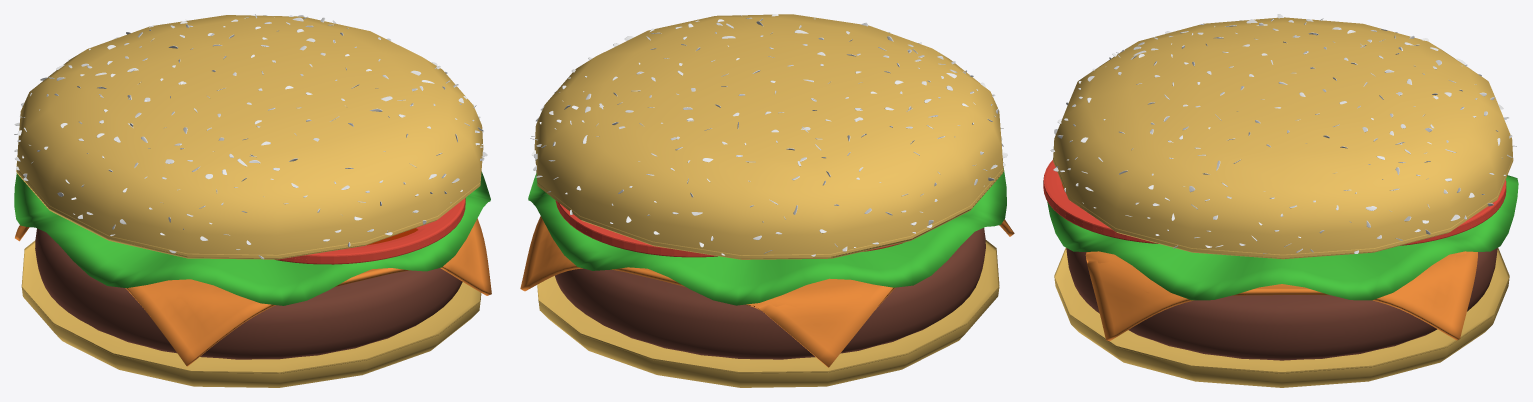
File: Final_BORGIR.fbx
3 renders of one model, left to right at view 1: azimuth 30°, elevation 25°; view 2: azimuth 150°, elevation 25°; view 3: azimuth 270°, elevation 25°, orthographic.
Visible parts, largest first — view 1: Cube.005, Plane, Circle, Cube.001, Circle.001, Cube.004; view 2: Cube.005, Plane, Circle, Cube.001, Circle.003, Cube.004; view 3: Cube.005, Plane, Circle, Cube.001, Circle.001, Circle.003, Cube.004.
Boxes of the visible parts, <box> form: Cube.005: <box>16,15,483,258</box>; Plane: <box>15,218,491,366</box>; Circle: <box>14,171,490,305</box>; Cube.001: <box>21,240,481,387</box>; Circle.001: <box>275,198,465,264</box>; Cube.004: <box>16,155,436,259</box>; Cube.005: <box>534,14,1003,258</box>; Plane: <box>520,216,1014,367</box>; Circle: <box>528,168,1006,305</box>; Cube.001: <box>537,240,999,387</box>; Circle.003: <box>555,200,717,257</box>; Cube.004: <box>581,158,1003,259</box>; Cube.005: <box>1053,17,1513,258</box>; Plane: <box>1066,248,1497,360</box>; Circle: <box>1047,175,1518,300</box>; Cube.001: <box>1054,247,1509,387</box>; Circle.001: <box>1043,160,1158,243</box>; Circle.003: <box>1400,180,1506,245</box>; Cube.004: <box>1109,227,1449,259</box>.
Size of the model in its own units: 190 by 105 by 191.
